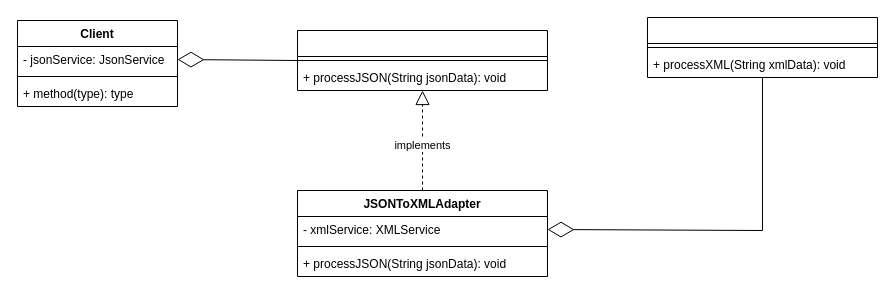
Some shapes in this 895 by 297 pixel diagram are drawn without their labels. Here are the shapes that lost their labels. From the top down, the box of each, then its label:
(296, 30, 548, 90): JsonService
(646, 16, 878, 78): XMLService
